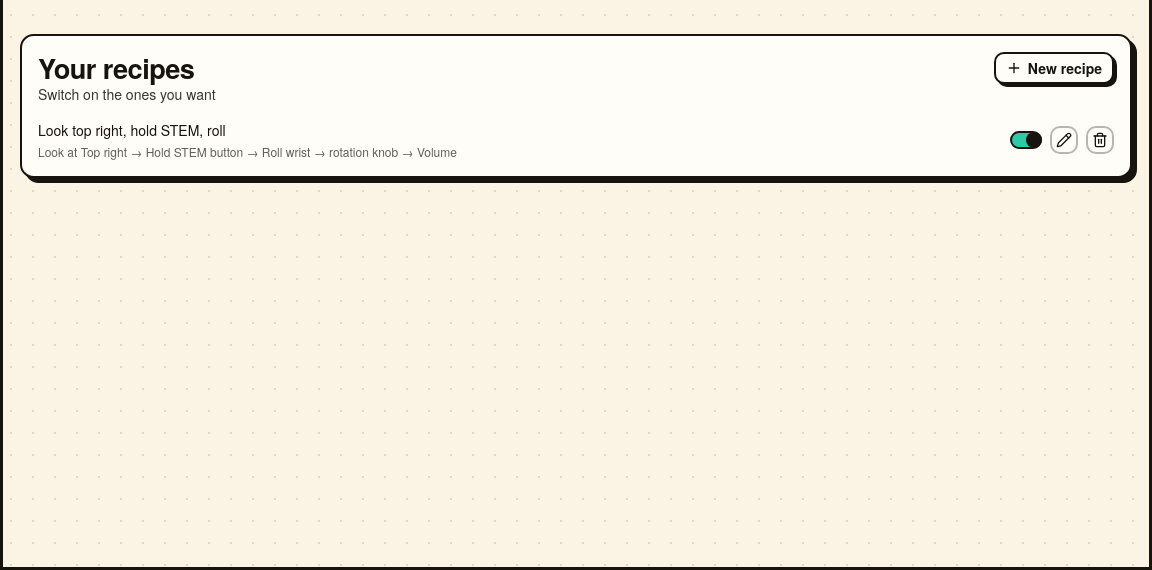
Scenario: RecipesPage › will not save a model step without a valid label, nor a one-shot on a dial
This screenshot has width=1152, height=570.
Click the button "New recipe" at [1054, 68], box [994, 52, 1114, 84]
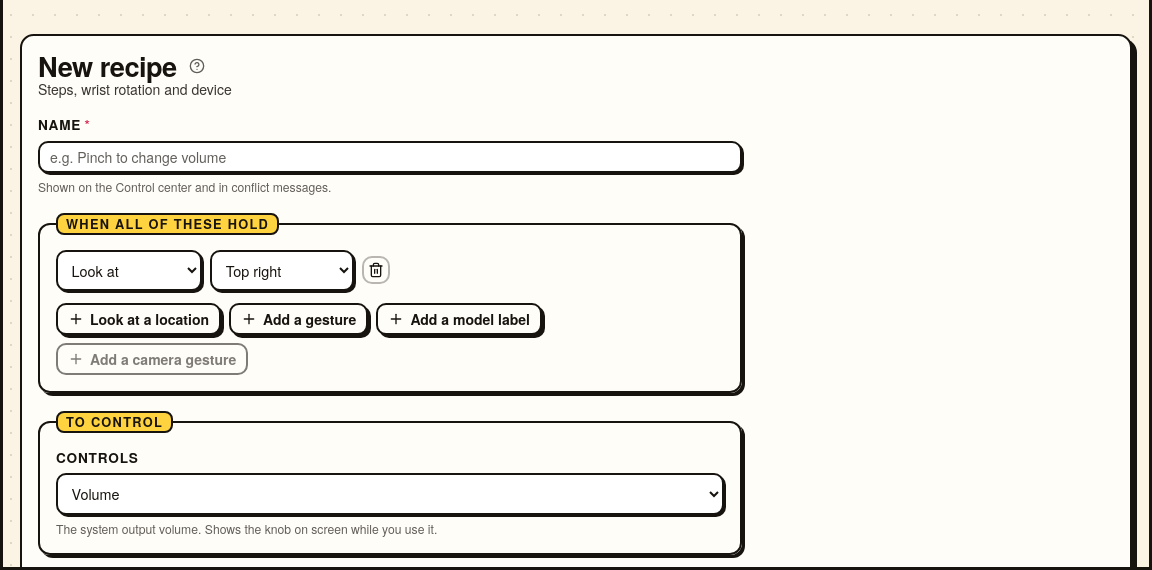
Type "x" into the field labelled "Name" at [390, 157], box [38, 141, 742, 173]
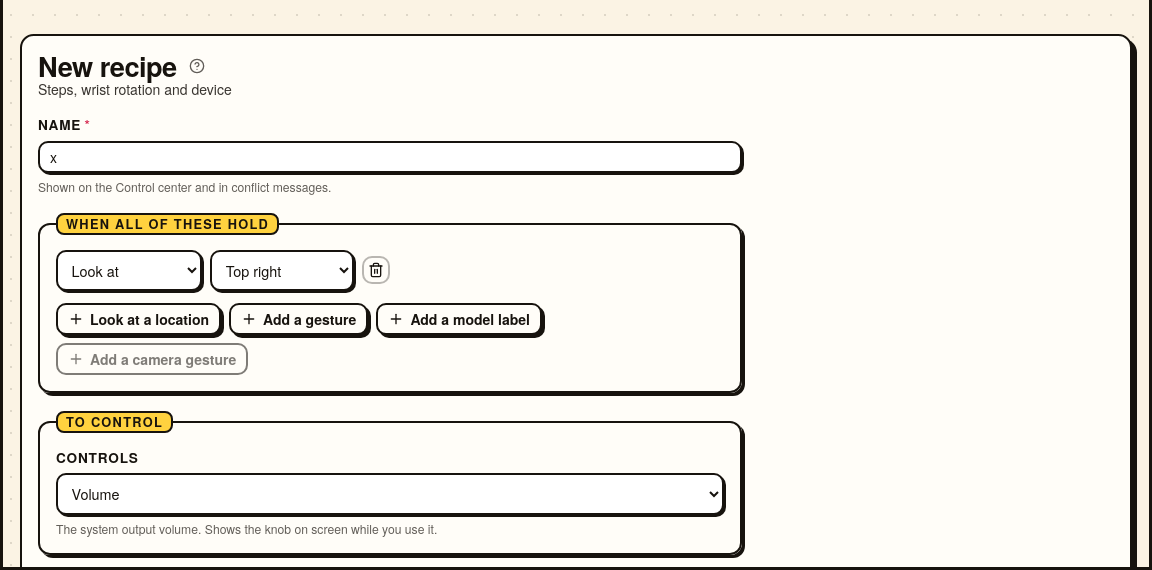
Click the button "Add a model label" at [459, 319], box [376, 303, 542, 335]
(page scrolled)
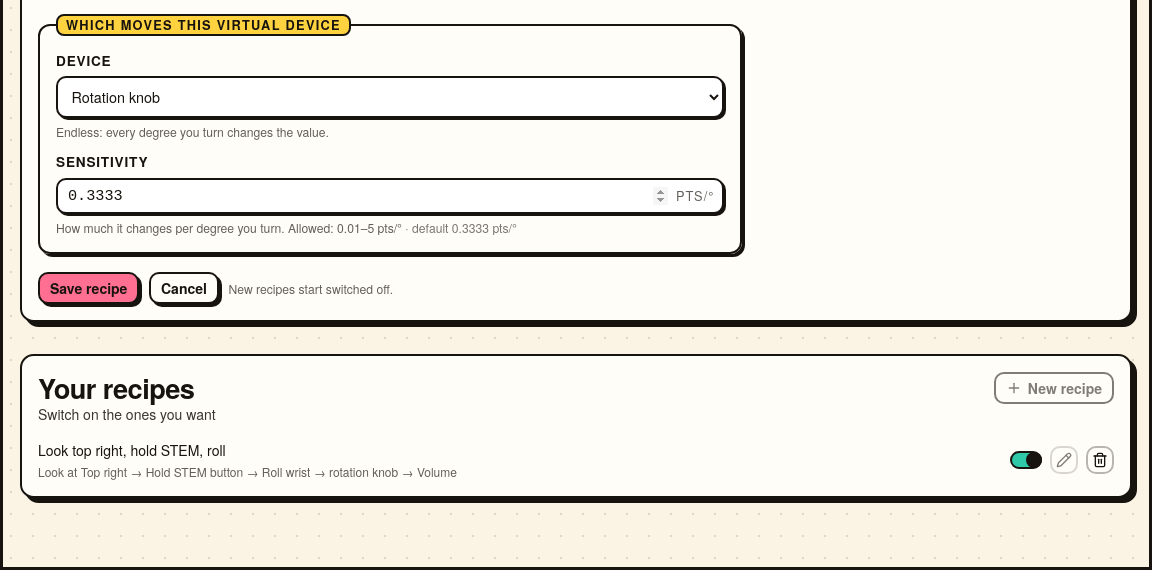
Click the button "Save recipe" at [89, 288], box [38, 272, 139, 304]
(page scrolled)
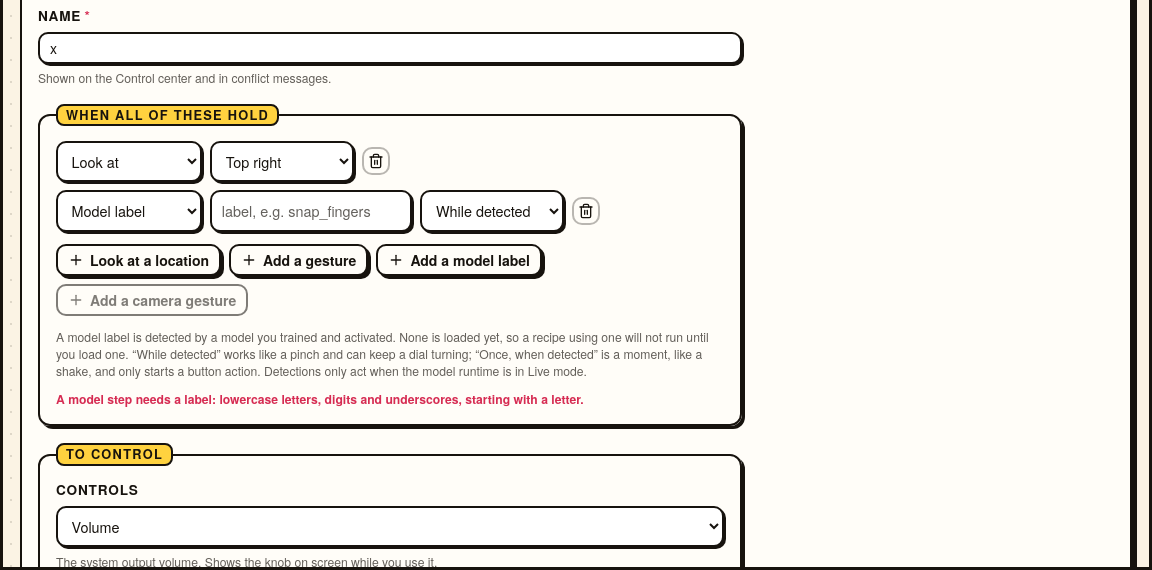
Type "snap" into the field named "Step 2 model label" at [311, 211], box [210, 190, 412, 232]
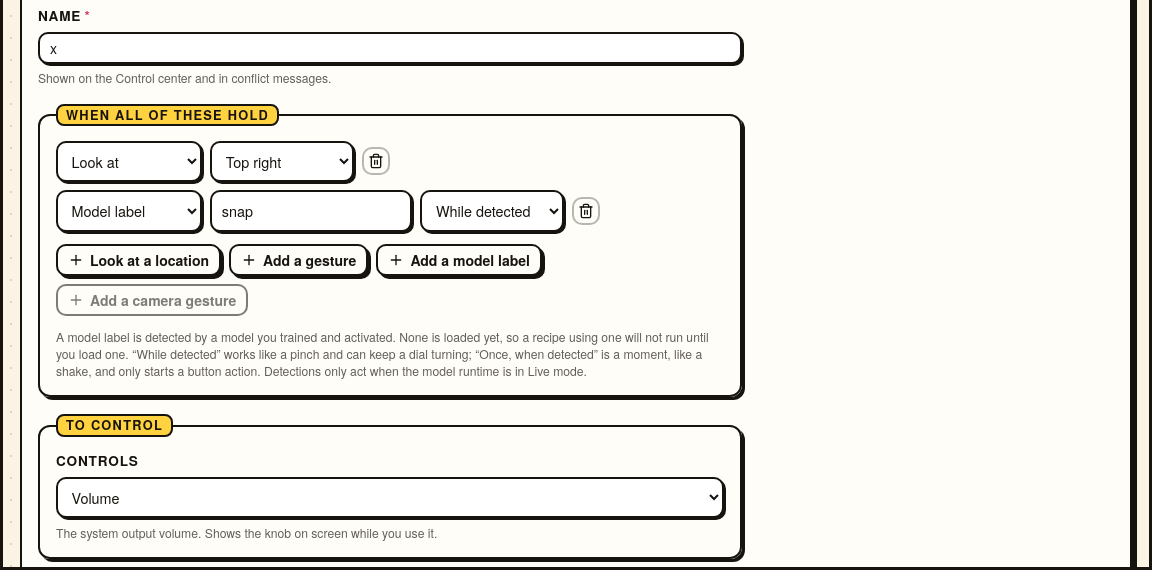
Check: the message "A model step needs a label: lowercase letters, digits and underscores, starting" is gone
